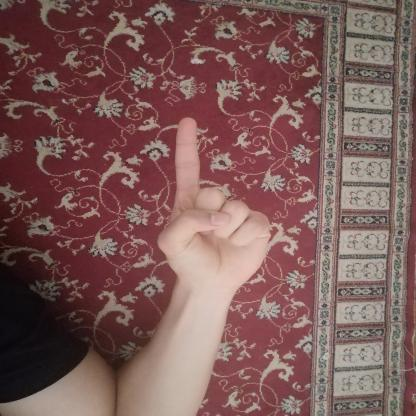BAA: (147, 103, 281, 296)
